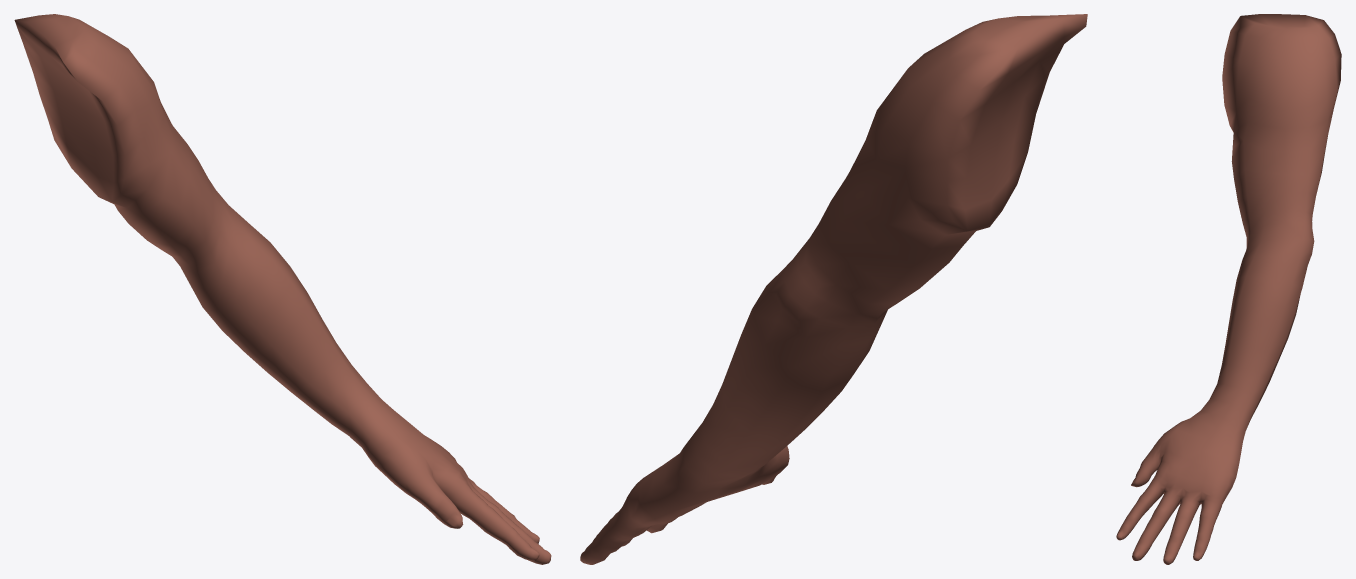
The model's file is Arm.L.fbx.
3 renders of one model, left to right at view 1: azimuth 30°, elevation 25°; view 2: azimuth 150°, elevation 25°; view 3: azimuth 270°, elevation 25°, orthographic. The views are drawn at different scales.
Visible parts, largest first — view 1: Arm.L; view 2: Arm.L; view 3: Arm.L.
Part boxes in pixels (x1,y1,x2,y2): Arm.L: (14, 14, 551, 564); Arm.L: (580, 14, 1087, 564); Arm.L: (1116, 14, 1341, 564).
Bounding box in the file's own units: 185 × 231 × 117.
